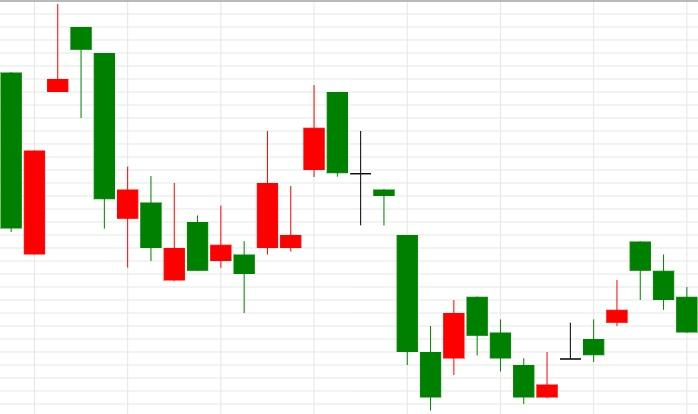inverse_hammer_rise: (71, 27, 185, 281)
